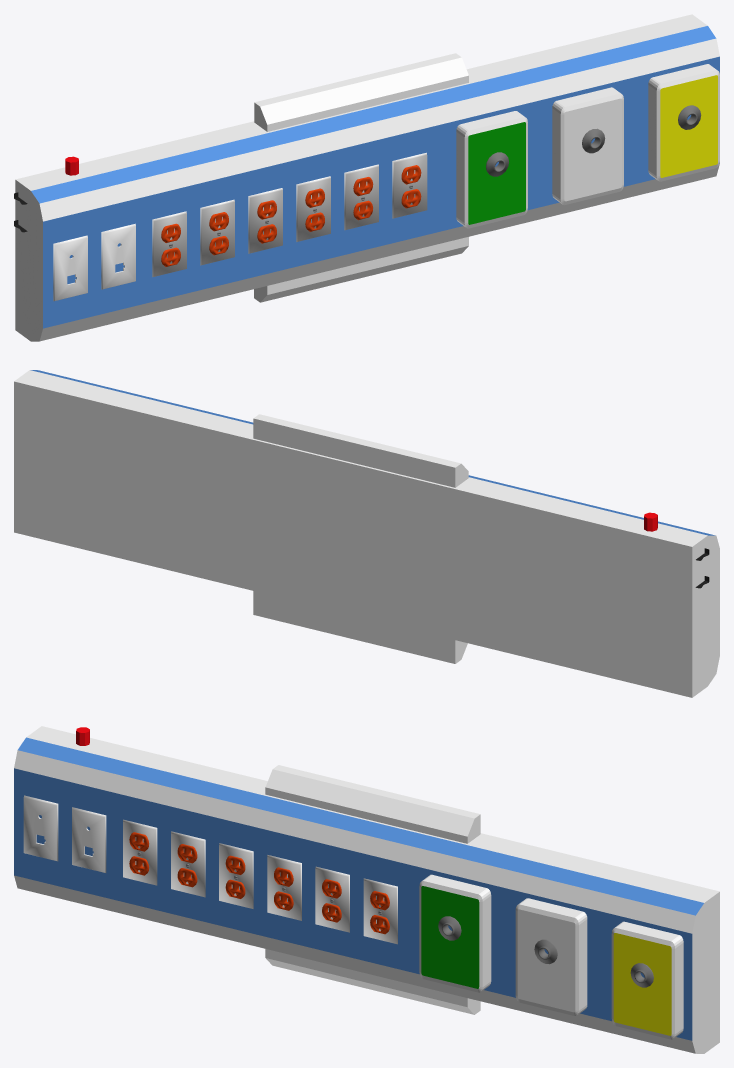
3 views of the same model, one above another, from view 1: azimuth 30°, elevation 25°; view 2: azimuth 150°, elevation 25°; view 3: azimuth 330°, elevation 25° (orthographic).
Visible parts, largest first — view 1: PC-2; view 2: PC-2; view 3: PC-2.
Part boxes in pixels (box(x1,y1,x2,y2)): PC-2: box(14, 14, 719, 341); PC-2: box(14, 370, 719, 697); PC-2: box(14, 726, 719, 1053).
Size of the model in its own units: 142 by 39 by 14.29.
